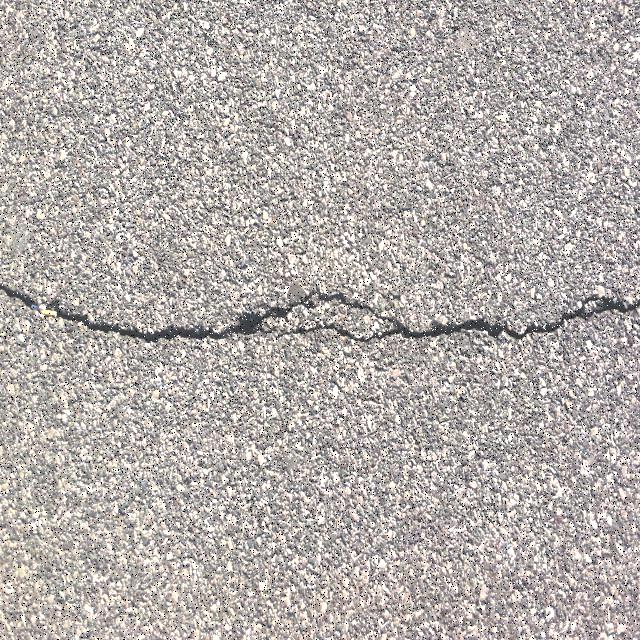Crack: (0, 279, 640, 344)
